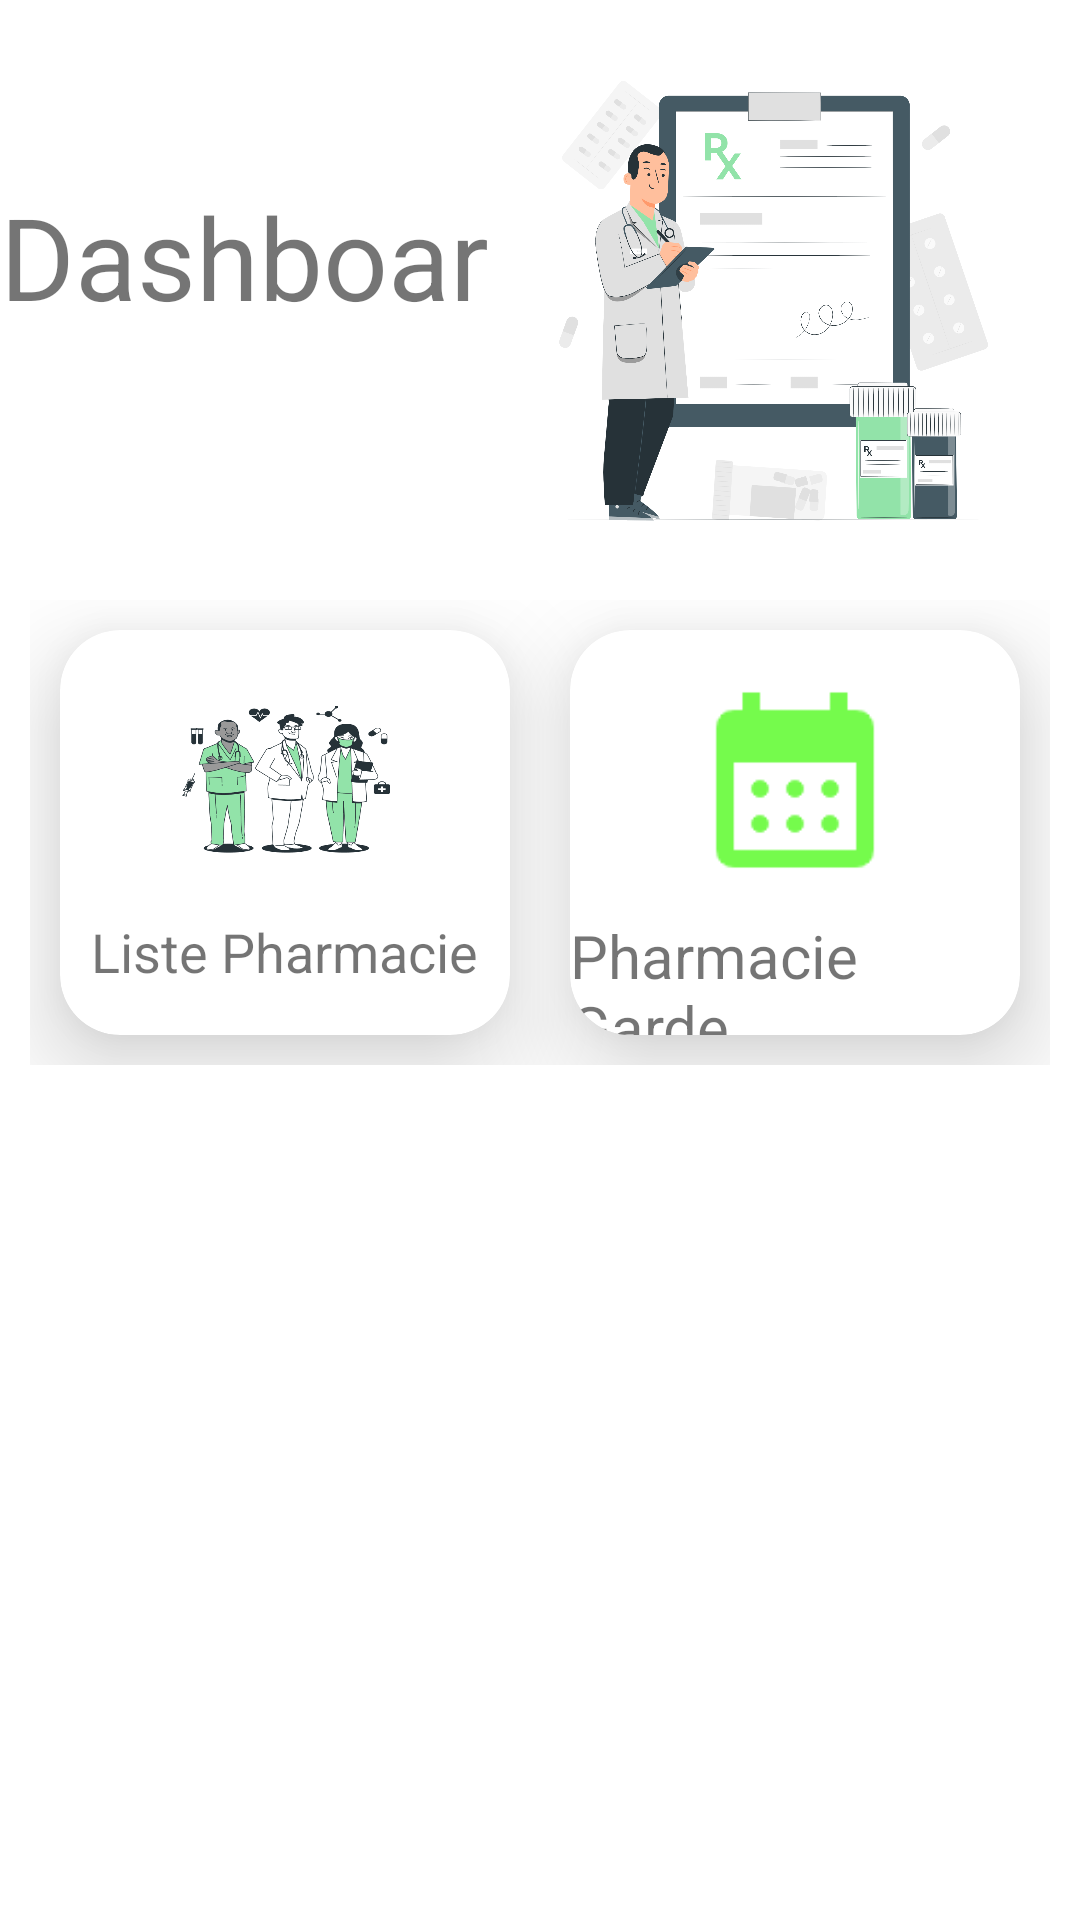

Point at icon controls on the screen. Image size 1080 × 1920, points as point (x, y).
calendar: point (795, 780)
medecin: point (286, 779)
